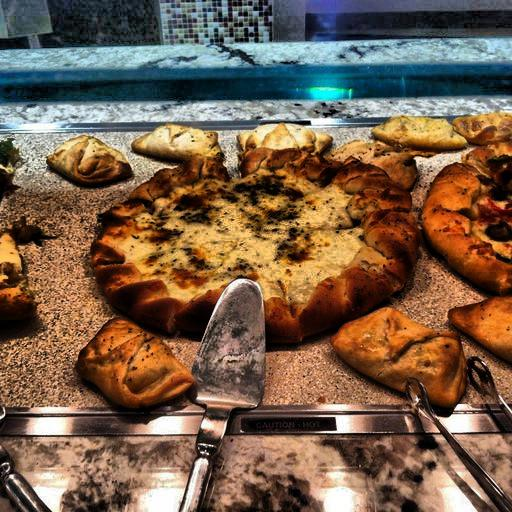pizza: (96, 153, 420, 349)
